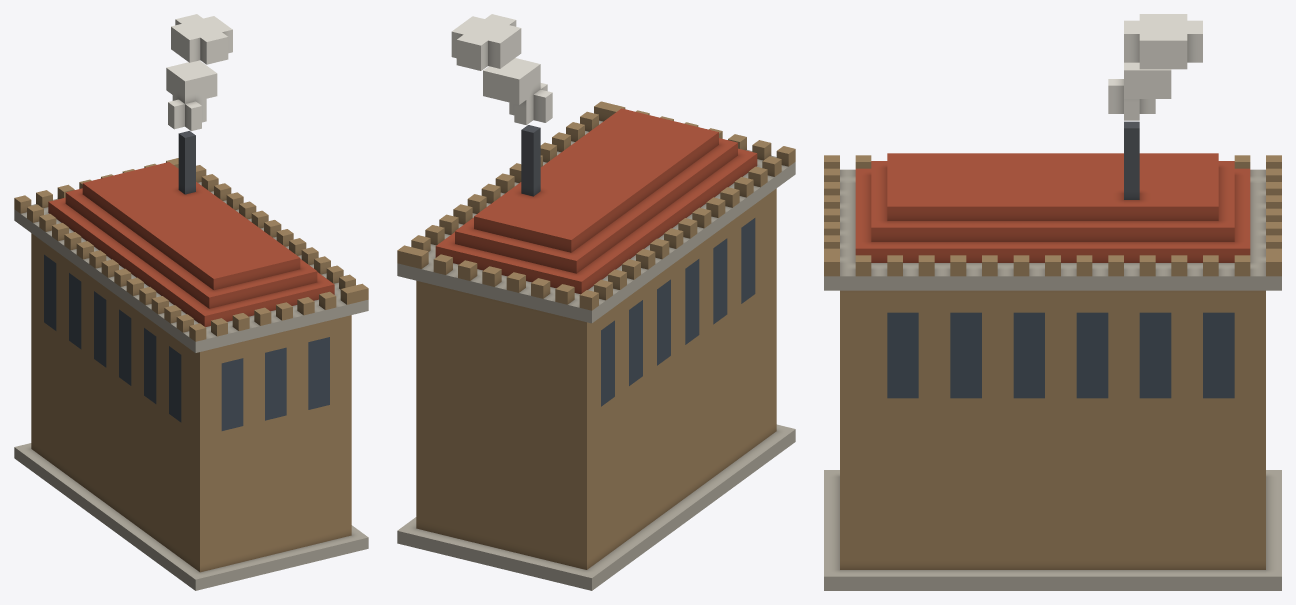
File: w_sistine_chapel.glb
The picture shows the model from 3 angles, left to right: view 1: azimuth 30°, elevation 25°; view 2: azimuth 150°, elevation 25°; view 3: azimuth 270°, elevation 25°; orthographic projection. The views are drawn at different scales.
Parts seen in each view (by area): view 1: w_sistine_chapel_body; view 2: w_sistine_chapel_body; view 3: w_sistine_chapel_body.
Boxes of the visible parts, x1,y1,x2,y2 form: w_sistine_chapel_body: (14, 14, 368, 590); w_sistine_chapel_body: (397, 14, 795, 590); w_sistine_chapel_body: (824, 14, 1281, 590).
Bounding box in the file's own units: 1 × 2.38 × 1.81.
1 material, 1 textured.
